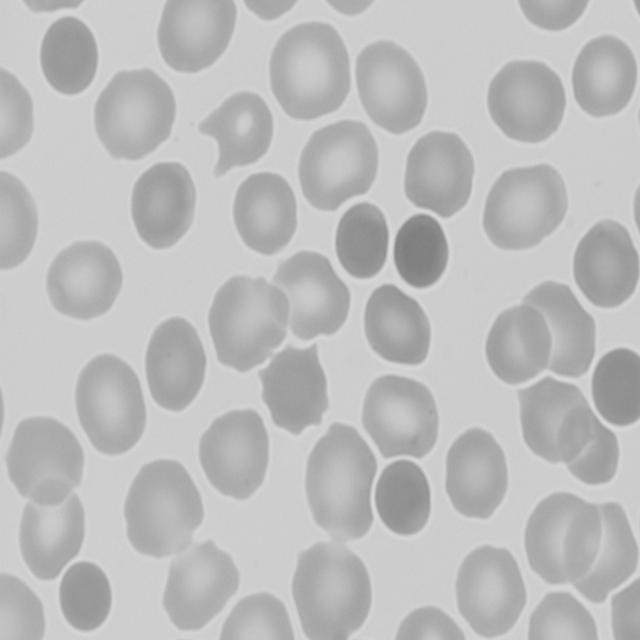RBC: (289, 534, 376, 640), (302, 420, 378, 540), (266, 18, 356, 118), (92, 66, 180, 164), (73, 349, 152, 456), (123, 456, 206, 557), (208, 274, 292, 372), (294, 116, 382, 208), (453, 537, 531, 640), (3, 413, 87, 508), (161, 540, 244, 635), (524, 490, 604, 587), (482, 162, 568, 252), (274, 249, 354, 345), (352, 36, 430, 134), (486, 52, 566, 146), (362, 369, 442, 462), (403, 122, 480, 218), (198, 408, 274, 503), (256, 342, 331, 438), (516, 374, 592, 467), (15, 484, 90, 578), (43, 238, 125, 320), (570, 218, 640, 314), (125, 157, 197, 250), (144, 310, 210, 410), (442, 428, 511, 523), (360, 282, 434, 369), (231, 170, 301, 260), (570, 29, 638, 120), (486, 304, 555, 388), (210, 86, 278, 170), (156, 0, 236, 71), (560, 412, 620, 492), (0, 166, 40, 276), (524, 589, 604, 640), (218, 590, 298, 640), (0, 65, 37, 170), (0, 568, 48, 640), (510, 0, 594, 35), (390, 605, 470, 640), (607, 576, 640, 640), (232, 0, 310, 22), (310, 0, 390, 17), (12, 0, 95, 14), (634, 165, 640, 268), (627, 0, 640, 37)
Spherocyte: (36, 10, 99, 97), (391, 209, 454, 292), (374, 456, 436, 539), (333, 202, 394, 284), (55, 561, 115, 635), (592, 343, 640, 428)
